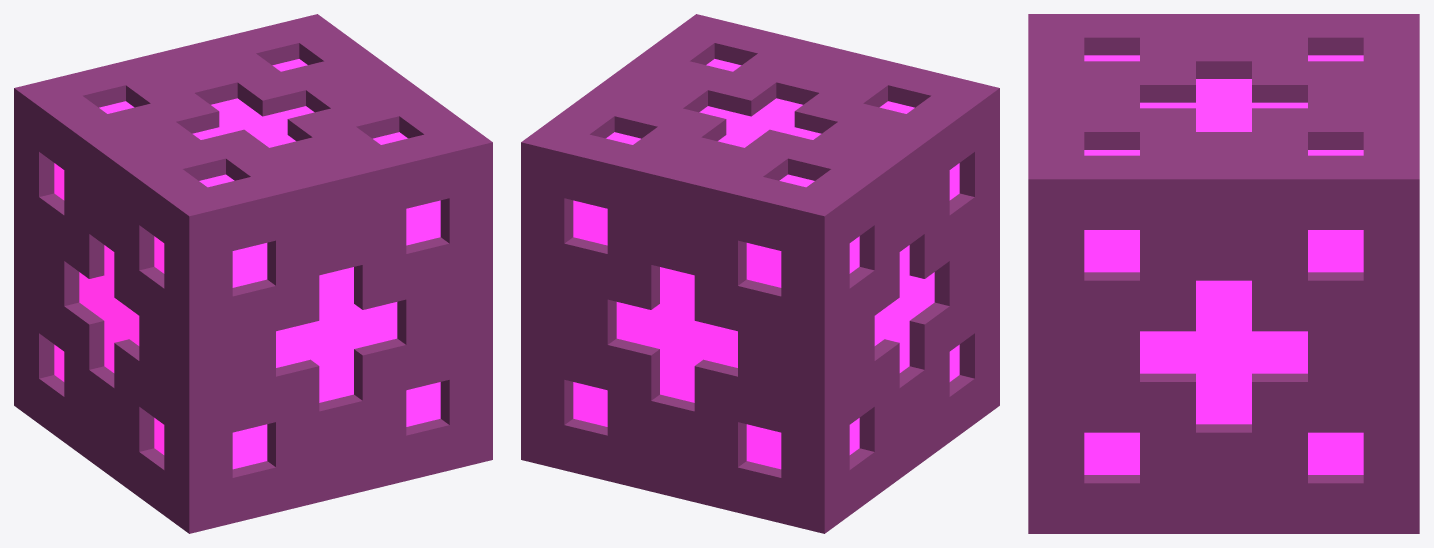
File: CMPM179_Project1_boxLarge1.fbx
3 renders of one model, left to right at view 1: azimuth 30°, elevation 25°; view 2: azimuth 150°, elevation 25°; view 3: azimuth 270°, elevation 25°, orthographic. The views are drawn at different scales.
Parts seen in each view (by area): view 1: box_large1; view 2: box_large1; view 3: box_large1.
Part boxes in pixels (x1,y1,x2,y2): box_large1: (14,14,492,533); box_large1: (521,14,999,533); box_large1: (1028,14,1419,533).
Bounding box in the file's own units: 200 × 200 × 200.
